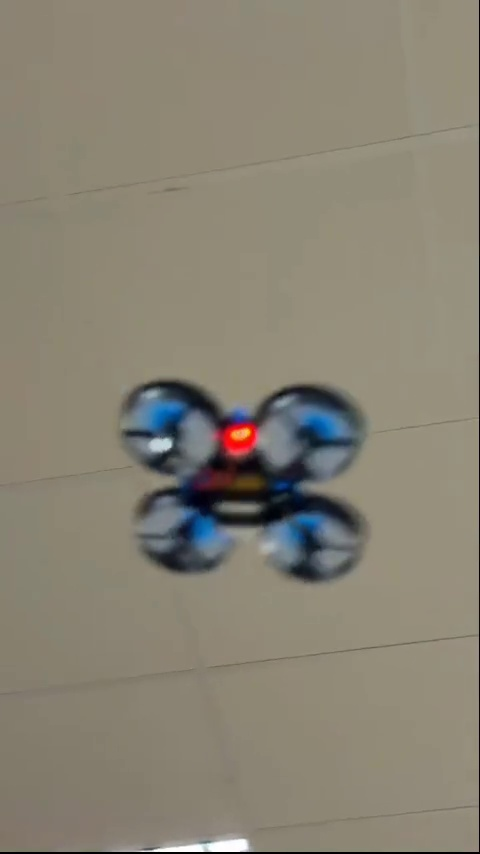drone: (119, 382, 363, 578)
